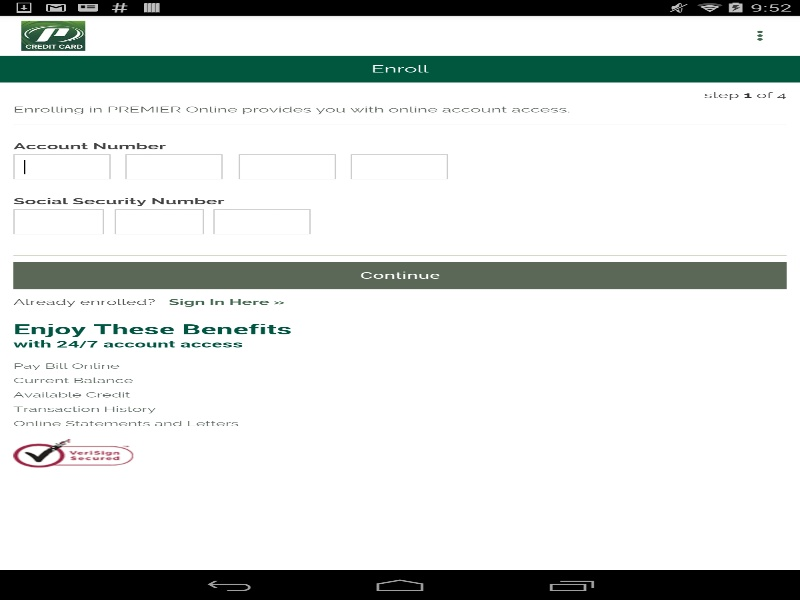Button: (13, 261, 786, 289)
Input: (125, 154, 224, 179), (238, 154, 337, 179), (350, 154, 449, 179), (213, 209, 312, 234), (13, 154, 110, 179), (13, 209, 104, 234), (114, 209, 205, 234)
